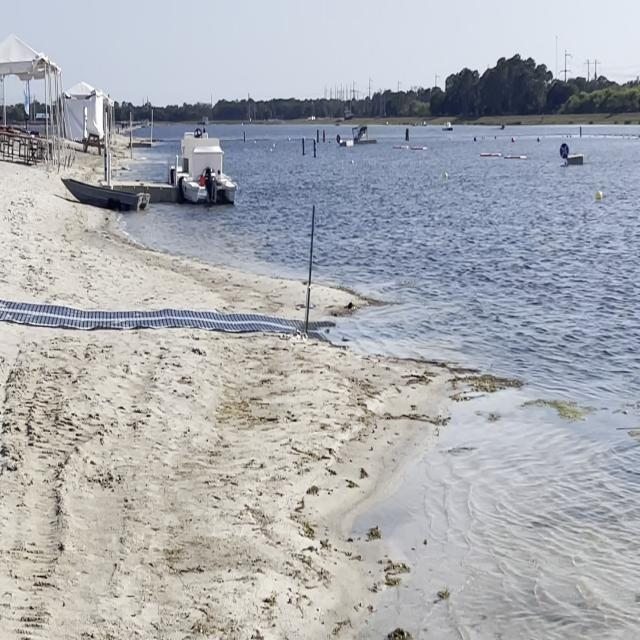buoy: (596, 190, 603, 200)
